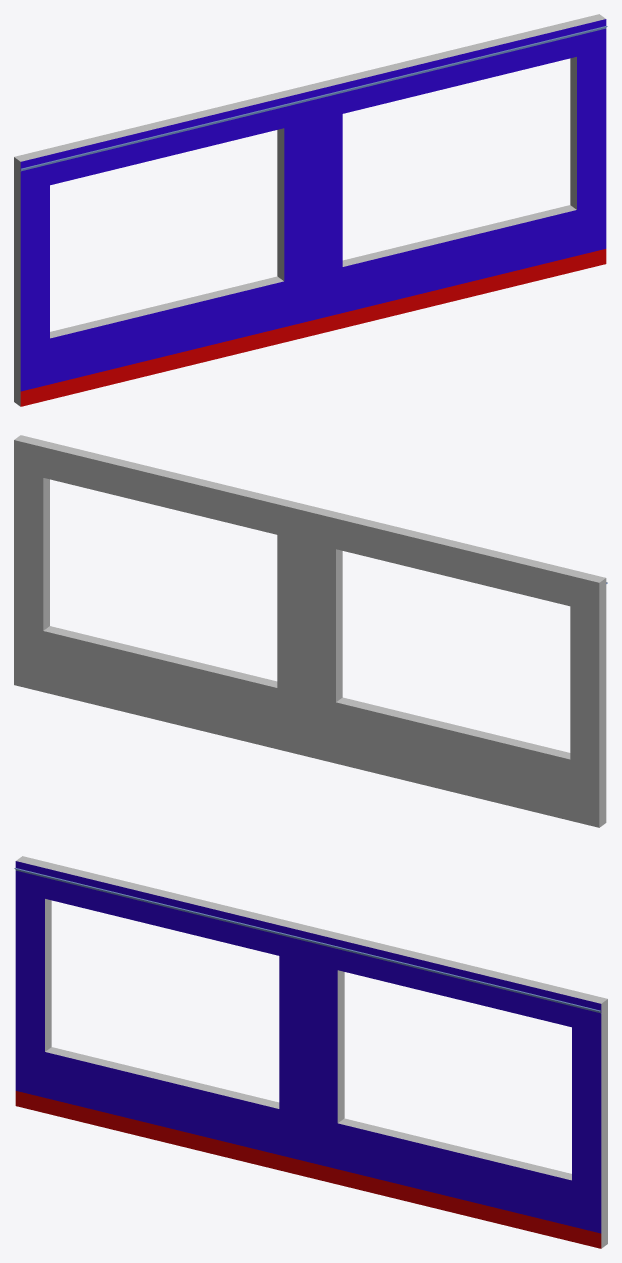
Rendered from Corridor_Windows_Wall_01_Snaps014.FBX.
The picture shows the model from 3 angles, top to bottom: view 1: azimuth 30°, elevation 25°; view 2: azimuth 150°, elevation 25°; view 3: azimuth 330°, elevation 25°; orthographic projection.
Visible parts, largest first — view 1: Corridor_Windows_Wall_01_LOD00; view 2: Corridor_Windows_Wall_01_LOD00; view 3: Corridor_Windows_Wall_01_LOD00.
Part boxes in pixels (bbox=[...]): Corridor_Windows_Wall_01_LOD00: bbox=[14, 14, 607, 406]; Corridor_Windows_Wall_01_LOD00: bbox=[14, 435, 607, 827]; Corridor_Windows_Wall_01_LOD00: bbox=[14, 856, 607, 1248].
Size of the model in its own units: 1000 by 400 by 25.32.
